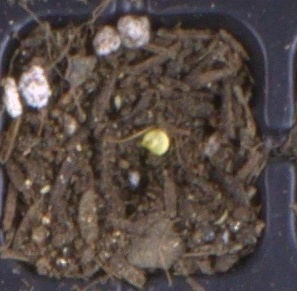chilli seed: (141, 129, 170, 157)
